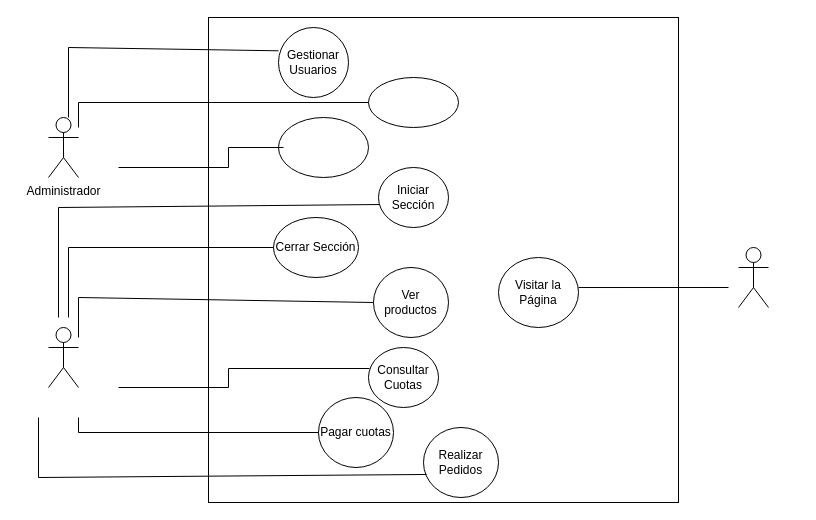
Some shapes in this 816 by 520 pixel diagram are drawn without their labels. Here are the shapes that lost their labels. From the top down, the centre of each, then its label:
At (x=413, y=102): "Gestionar Cuotas".
At (x=323, y=147): "Gestionar Productos".
At (x=753, y=277): "Usuario Visitante".
At (x=63, y=357): "Usuario Estándar".
